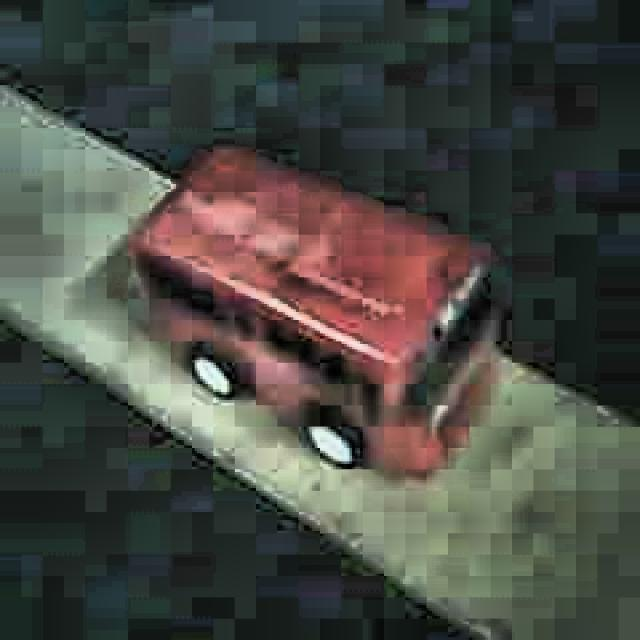bus: (128, 144, 496, 482)
